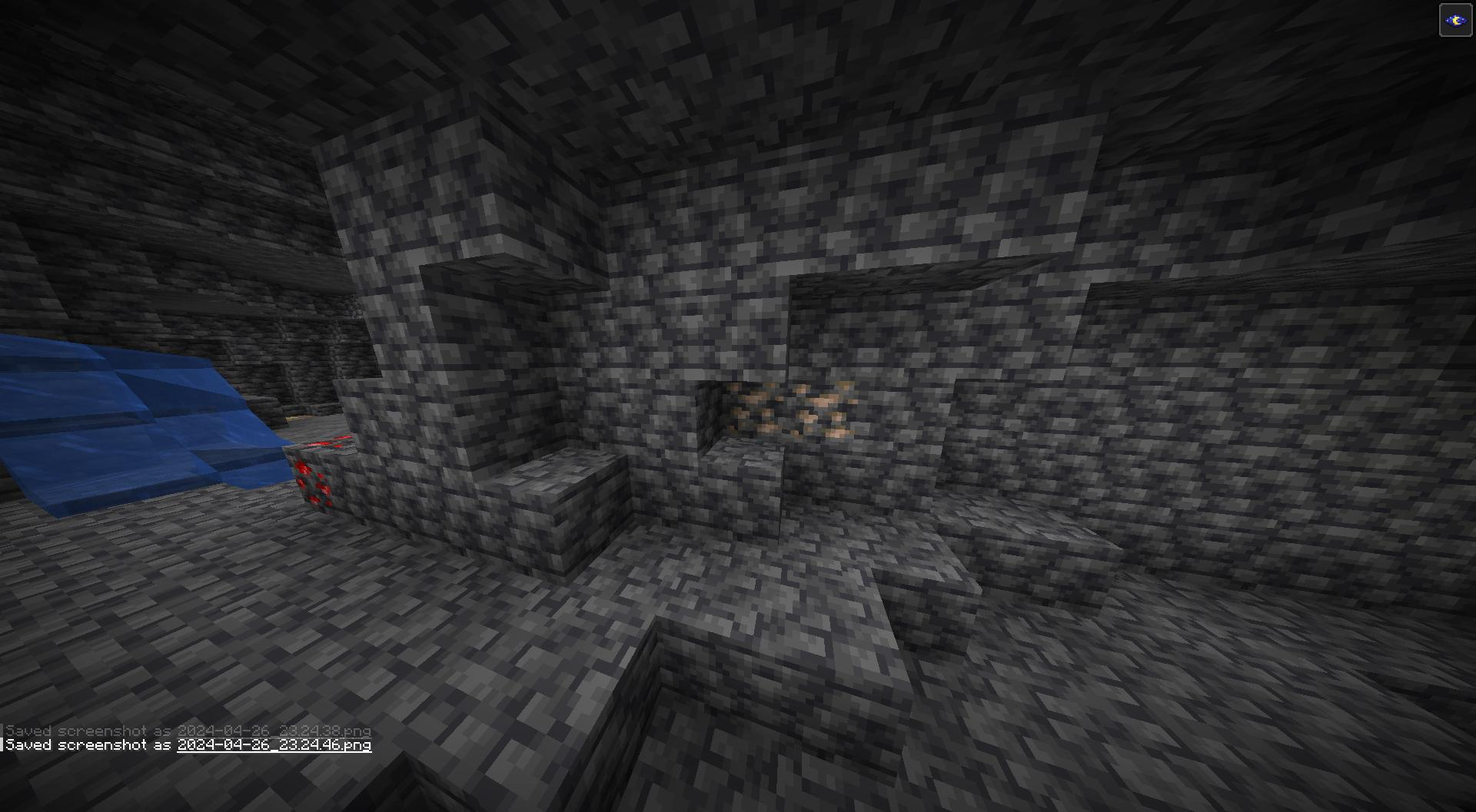iron ore: (786, 380, 861, 437), (718, 375, 781, 438)
redstone ore: (289, 430, 365, 508)
